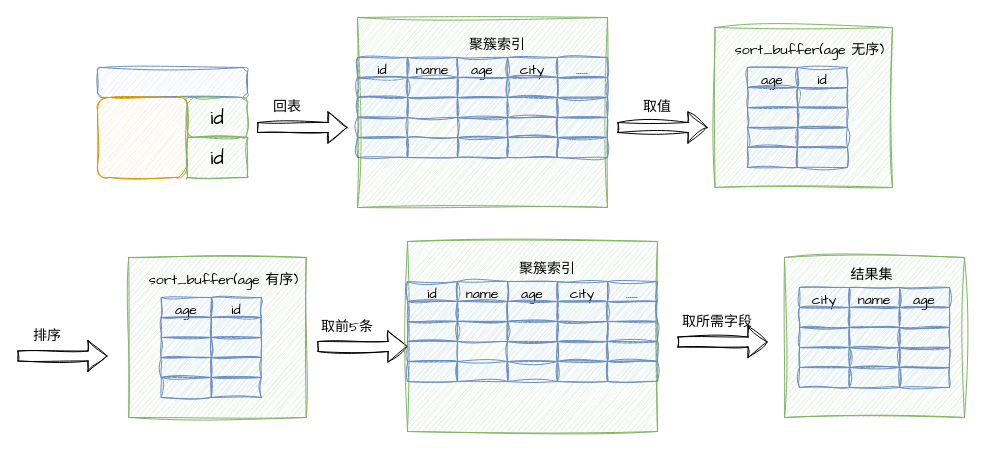
Image size: 982x449. Some labels were removed from this diagram. Each missing label, with the centre of its shape:
city=北京: the point at 142,137
city索引: the point at 172,82
